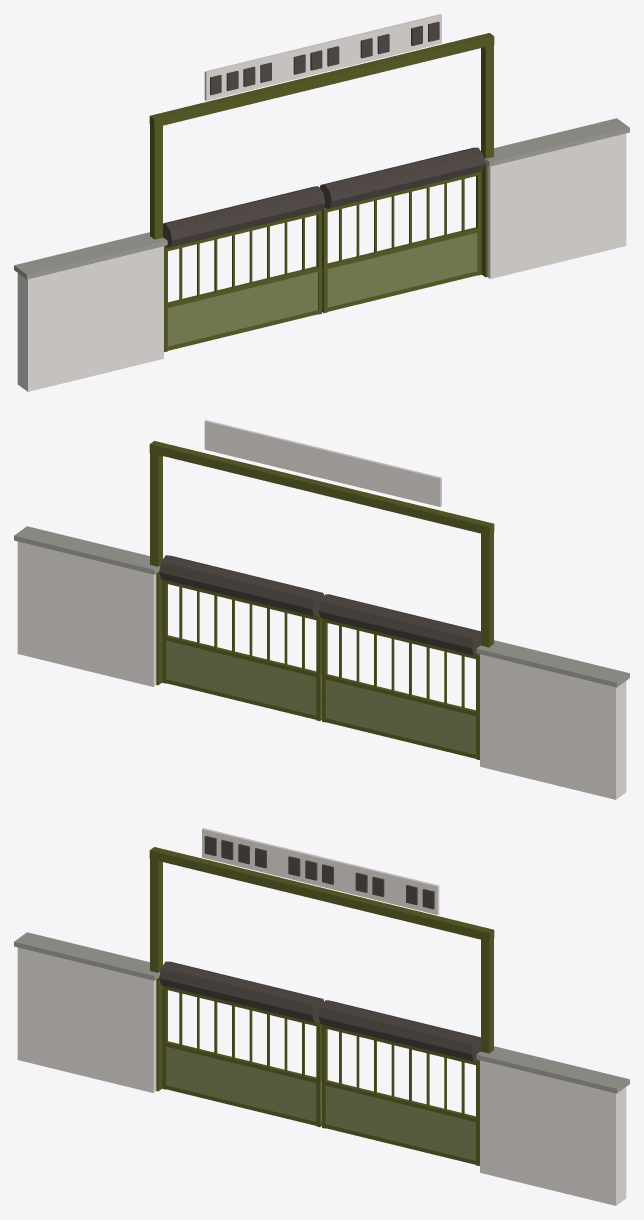
The model's file is SM_PuertaValla_v3_LOD0.fbx.
The picture shows the model from 3 angles, top to bottom: view 1: azimuth 30°, elevation 25°; view 2: azimuth 150°, elevation 25°; view 3: azimuth 330°, elevation 25°; orthographic projection.
Parts seen in each view (by area): view 1: SM_puerta_valla_v3_LOD0, Hoja_E, Hoja_O; view 2: SM_puerta_valla_v3_LOD0, Hoja_E, Hoja_O; view 3: SM_puerta_valla_v3_LOD0, Hoja_O, Hoja_E.
Part boxes in pixels (left/top/right/bottom): SM_puerta_valla_v3_LOD0: left=14, top=14, right=629, bottom=391; Hoja_E: left=320, top=147, right=484, bottom=313; Hoja_O: left=163, top=186, right=325, bottom=351; SM_puerta_valla_v3_LOD0: left=14, top=420, right=629, bottom=799; Hoja_E: left=159, top=555, right=323, bottom=720; Hoja_O: left=318, top=594, right=480, bottom=759; SM_puerta_valla_v3_LOD0: left=14, top=828, right=629, bottom=1205; Hoja_O: left=159, top=961, right=323, bottom=1127; Hoja_E: left=318, top=1000, right=480, bottom=1165.
Size of the model in its own units: 13.3 by 5.75 by 0.5.
